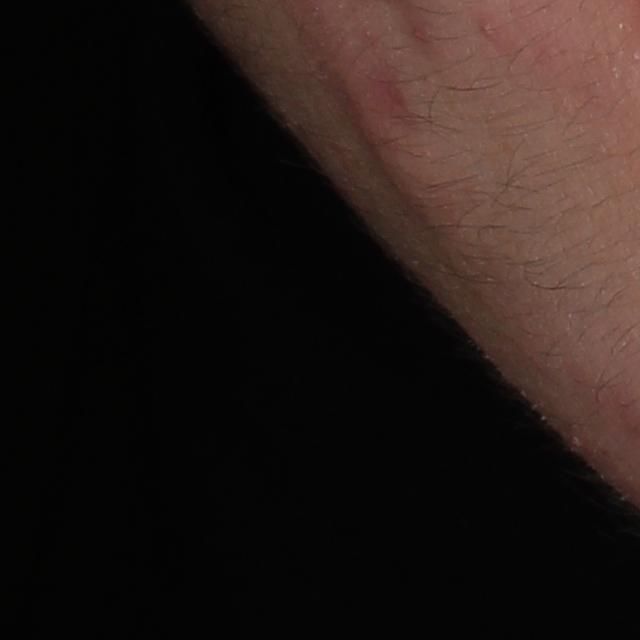hypertrophic_scar: (312, 23, 454, 220)
